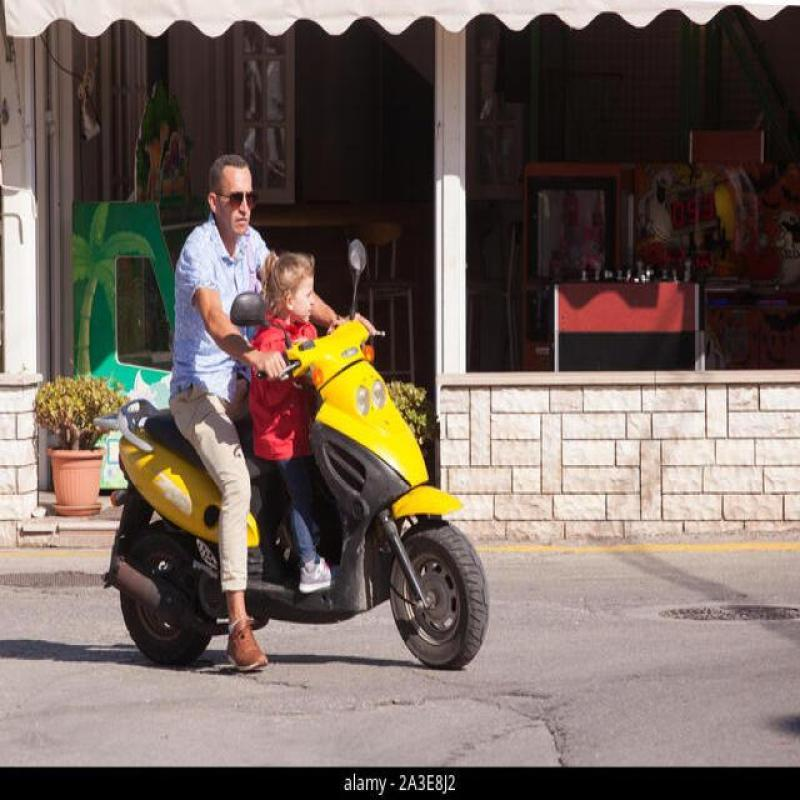nohelmet: (196, 154, 260, 252), (266, 243, 322, 335)
